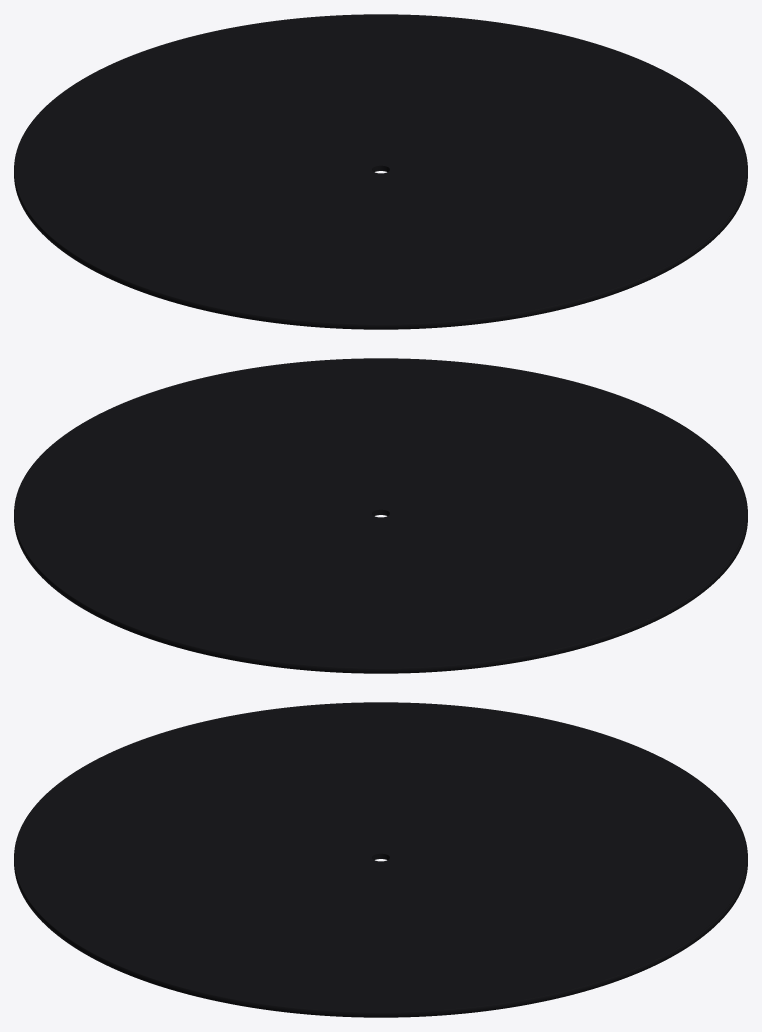
Rendered from record.glb.
The picture shows the model from 3 angles, top to bottom: view 1: azimuth 30°, elevation 25°; view 2: azimuth 150°, elevation 25°; view 3: azimuth 270°, elevation 25°; orthographic projection.
Visible parts, largest first — view 1: Record; view 2: Record; view 3: Record.
Boxes of the visible parts, box(x1,y1,x2,y2) form: Record: box(14, 14, 747, 329); Record: box(14, 358, 747, 673); Record: box(14, 702, 747, 1017).
Bounding box in the file's own units: 2.26 × 0.019 × 2.26.
1 material, 1 textured.
